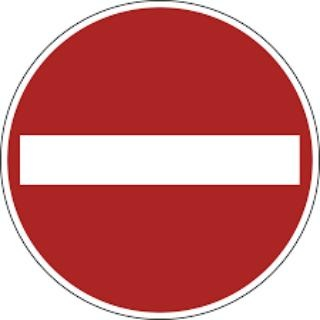sign_noentry: (0, 4, 317, 314)
